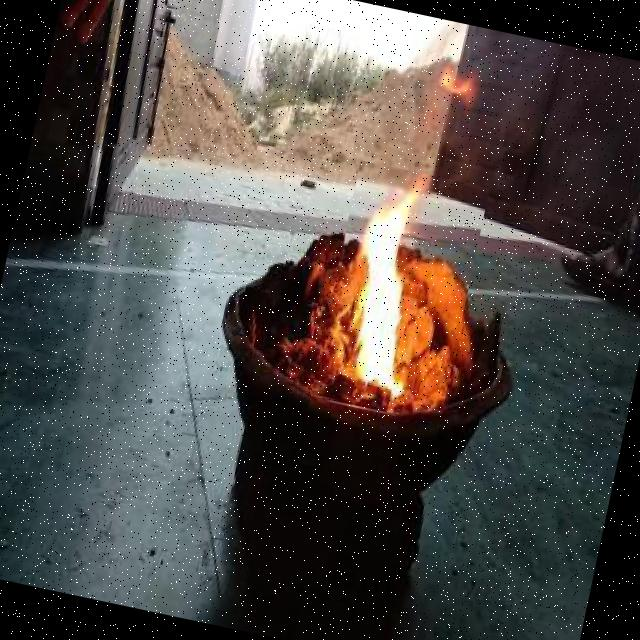fire: (305, 160, 489, 448)
